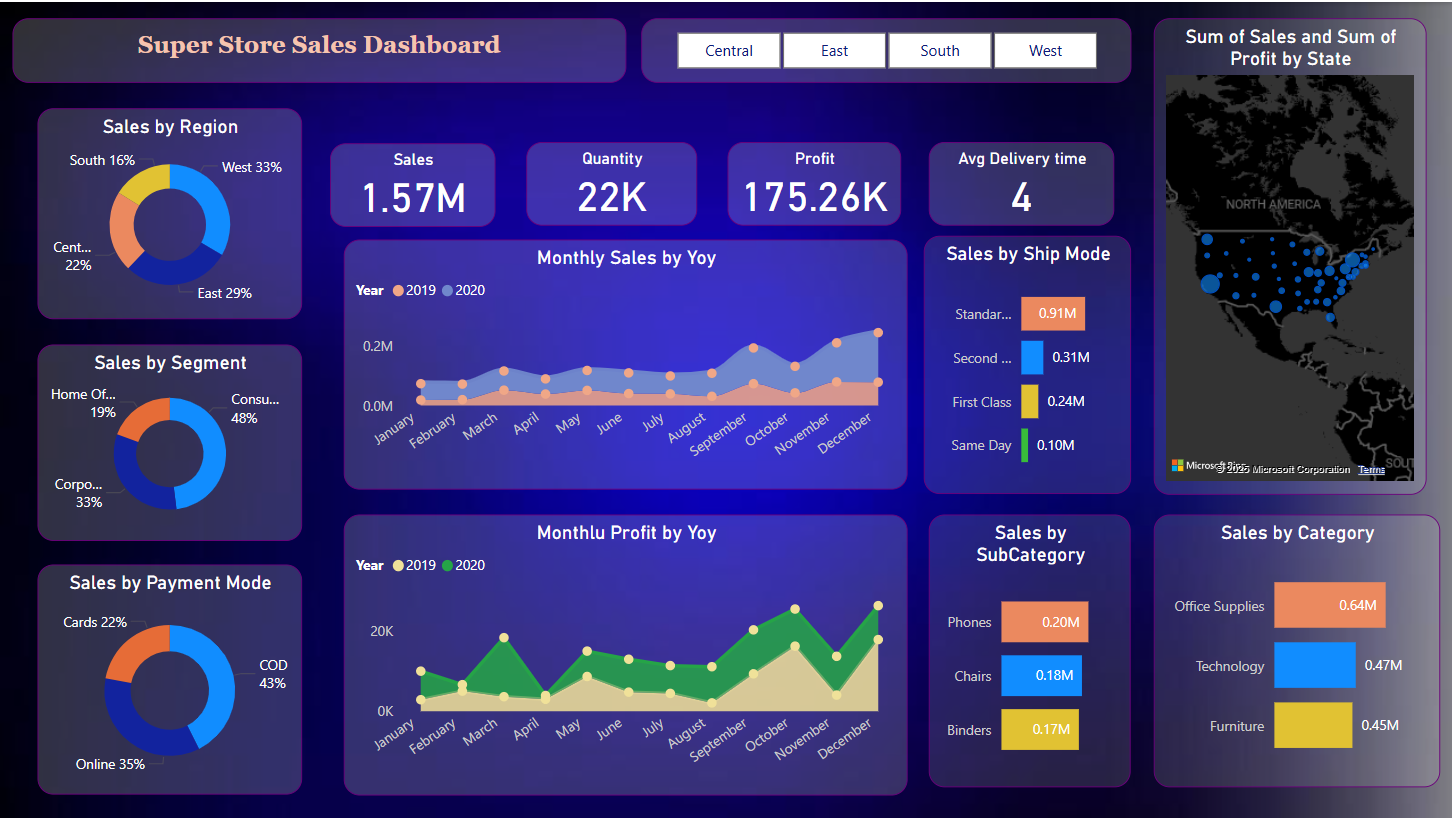

This screenshot's page, from the dashboard's own definition file:
{"tool":"powerbi","page":{"name":"Page 1","canvas":[1280,720],"ordinal":0},"visuals":[{"type":"clusteredBarChart","title":"Sales by Category","fields":{"Category":["SuperStore_Sales_Dataset.Category"],"Y":["Sum(SuperStore_Sales_Dataset.Sales)"]},"box":[1014.4,450.3,251.8,239.7],"z":0},{"type":"clusteredBarChart","title":"Sales by SubCategory","fields":{"Category":["SuperStore_Sales_Dataset.Sub-Category"],"Y":["Sum(SuperStore_Sales_Dataset.Sales)"]},"box":[817.1,450.3,177.9,239.7],"z":1000},{"type":"clusteredBarChart","title":"Sales by Ship Mode","fields":{"Category":["SuperStore_Sales_Dataset.Ship Mode"],"Y":["Sum(SuperStore_Sales_Dataset.Sales)"]},"box":[812.2,205.8,182.8,227.6],"z":2000},{"type":"stackedAreaChart","title":"Monthlu Profit by Yoy","fields":{"Category":["SuperStore_Sales_Dataset.Order Date.Variation.Date Hierarchy.Month","SuperStore_Sales_Dataset.Order Date.Variation.Date Hierarchy.Day"],"Series":["SuperStore_Sales_Dataset.Order Date.Variation.Date Hierarchy.Year"],"Y":["Sum(SuperStore_Sales_Dataset.Profit)"]},"box":[302.6,450.3,496.3,246.9],"z":3000},{"type":"stackedAreaChart","title":"Monthly Sales by Yoy","fields":{"Y":["Sum(SuperStore_Sales_Dataset.Sales)"],"Category":["SuperStore_Sales_Dataset.Order Date.Variation.Date Hierarchy.Month","SuperStore_Sales_Dataset.Order Date.Variation.Date Hierarchy.Day"],"Series":["SuperStore_Sales_Dataset.Order Date.Variation.Date Hierarchy.Year"]},"box":[302.6,209.4,496.3,220.3],"z":4000},{"type":"map","fields":{"Category":["SuperStore_Sales_Dataset.State"],"Size":["Sum(SuperStore_Sales_Dataset.Sales)"]},"box":[1014.4,14.5,239.7,418.8],"z":5000},{"type":"donutChart","title":"Sales by Segment","fields":{"Category":["SuperStore_Sales_Dataset.Segment"],"Y":["Sum(SuperStore_Sales_Dataset.Sales)"]},"box":[32.7,301.4,232.4,173.1],"z":6000},{"type":"donutChart","title":" Sales by Payment Mode","fields":{"Category":["SuperStore_Sales_Dataset.Payment Mode"],"Y":["Sum(SuperStore_Sales_Dataset.Sales)"]},"box":[32.7,495.1,232.4,202.2],"z":7000},{"type":"slicer","fields":{"Values":["SuperStore_Sales_Dataset.Region"]},"box":[564.1,14.5,430.9,56.9],"z":8000},{"type":"textbox","box":[10.9,14.5,539.9,56.9],"z":9000},{"type":"card","title":"Sales","fields":{"Values":["Sum(SuperStore_Sales_Dataset.Sales)"]},"box":[290.5,124.7,145.3,73.8],"z":10000},{"type":"card","title":"Quantity","fields":{"Values":["Sum(SuperStore_Sales_Dataset.Quantity)"]},"box":[462.4,123.5,150.1,73.8],"z":11000},{"type":"card","title":"Profit","fields":{"Values":["Sum(SuperStore_Sales_Dataset.Profit)"]},"box":[640.4,123.5,152.5,73.8],"z":12000},{"type":"card","title":"Avg Delivery time","fields":{"Values":["Avg(SuperStore_Sales_Dataset.Average Delivery)"]},"box":[817.1,123.5,163.4,73.8],"z":13000},{"type":"donutChart","title":"Sales by Region","fields":{"Y":["Sum(SuperStore_Sales_Dataset.Sales)"],"Category":["SuperStore_Sales_Dataset.Region"]},"box":[32.7,93.2,232.4,185.2],"z":14000}]}

Visuals, with their boxes in screenshot pixels (x1, y1, x2, y2), scaled from the page's 1280x720 canvas onto the 1452x818 screenshot:
"Sales by Category" clusteredBarChart: bbox(1151, 512, 1436, 784)
"Sales by SubCategory" clusteredBarChart: bbox(927, 512, 1129, 784)
"Sales by Ship Mode" clusteredBarChart: bbox(921, 234, 1129, 492)
"Monthlu Profit by Yoy" stackedAreaChart: bbox(343, 512, 906, 792)
"Monthly Sales by Yoy" stackedAreaChart: bbox(343, 238, 906, 488)
map - SuperStore_Sales_Dataset.State x Sum(SuperStore_Sales_Dataset.Sales): bbox(1151, 16, 1423, 492)
"Sales by Segment" donutChart: bbox(37, 342, 301, 539)
" Sales by Payment Mode" donutChart: bbox(37, 562, 301, 792)
slicer - SuperStore_Sales_Dataset.Region: bbox(640, 16, 1129, 81)
textbox: bbox(12, 16, 625, 81)
"Sales" card: bbox(330, 142, 494, 226)
"Quantity" card: bbox(525, 140, 695, 224)
"Profit" card: bbox(726, 140, 899, 224)
"Avg Delivery time" card: bbox(927, 140, 1112, 224)
"Sales by Region" donutChart: bbox(37, 106, 301, 316)
